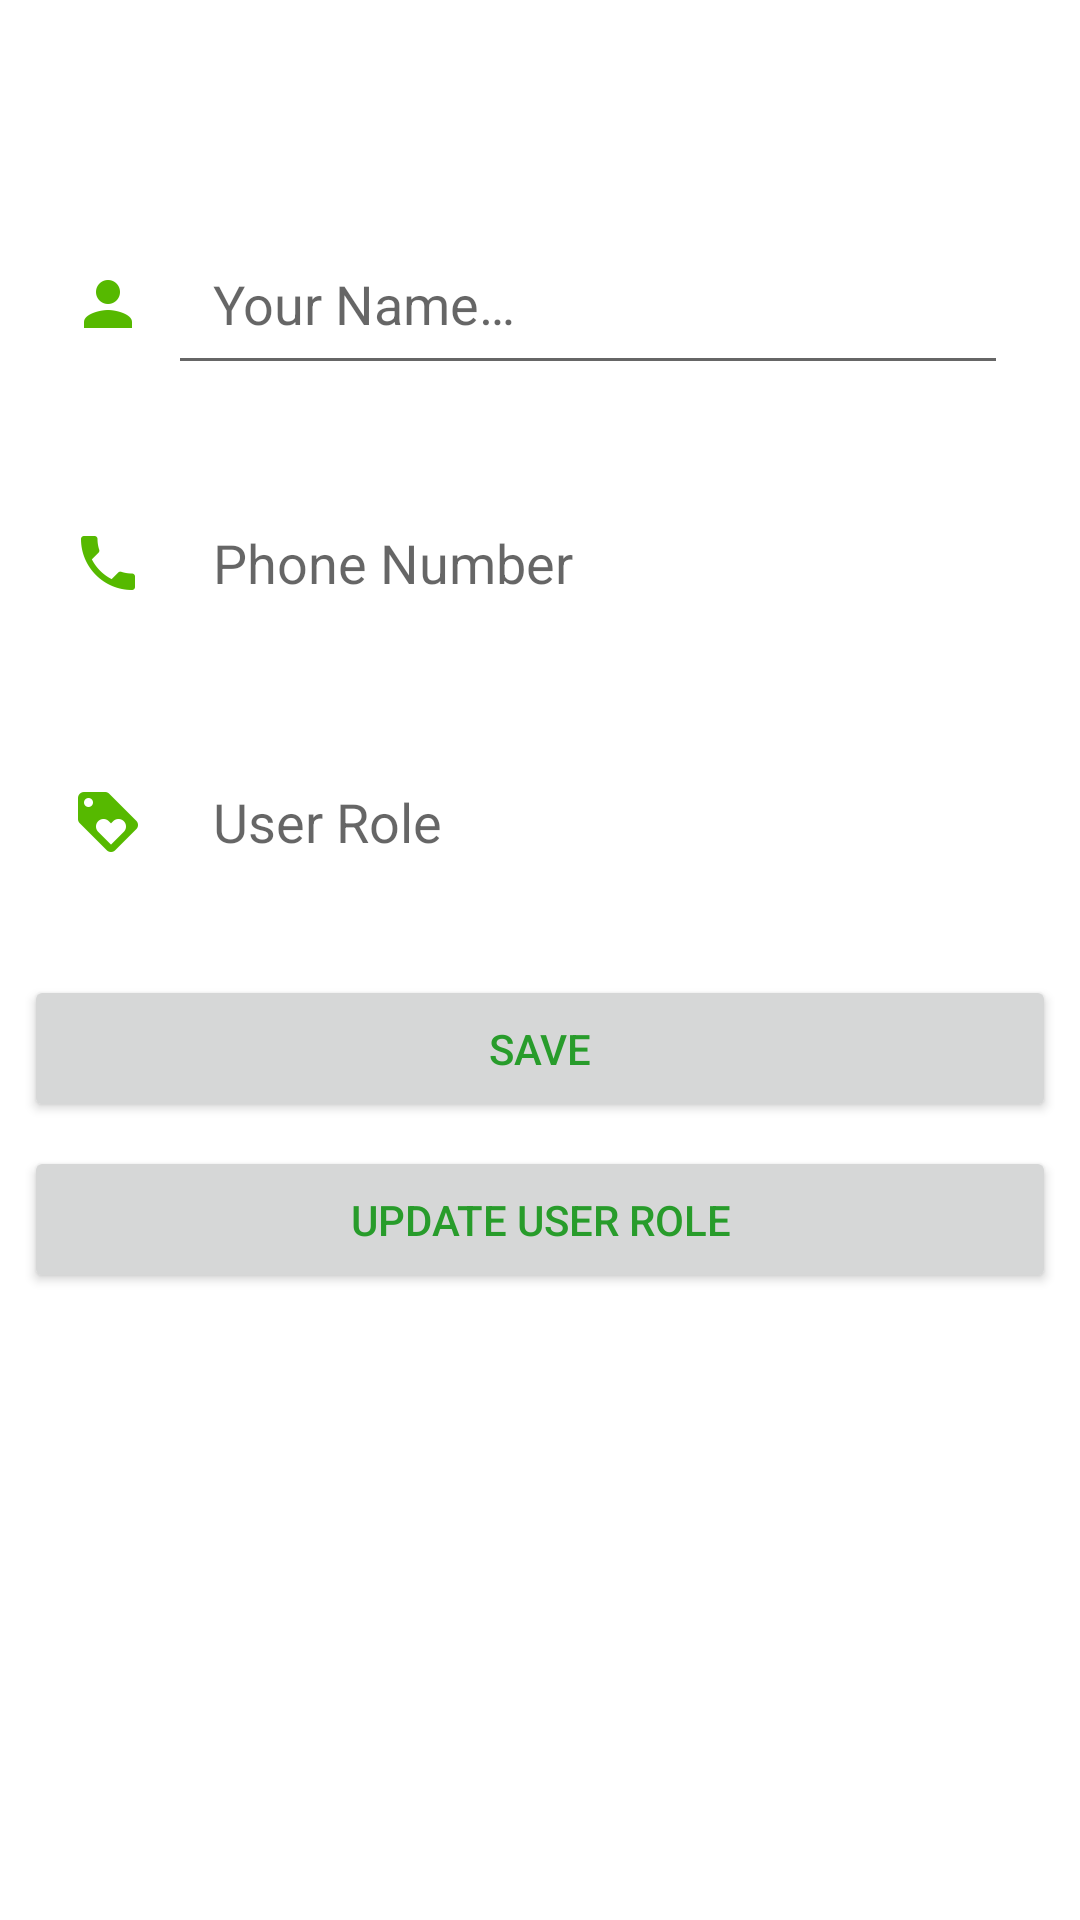

Icon bounding boxes for this 1080w x 1920h phone screenshot, format (x1, y1, x2, y2):
loyalty: (78, 792, 138, 852)
person: (84, 280, 132, 328)
